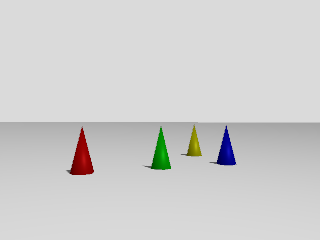blue: (217, 125, 237, 167)
green: (149, 124, 172, 171)
red: (67, 126, 95, 175)
yellow: (185, 123, 202, 158)
